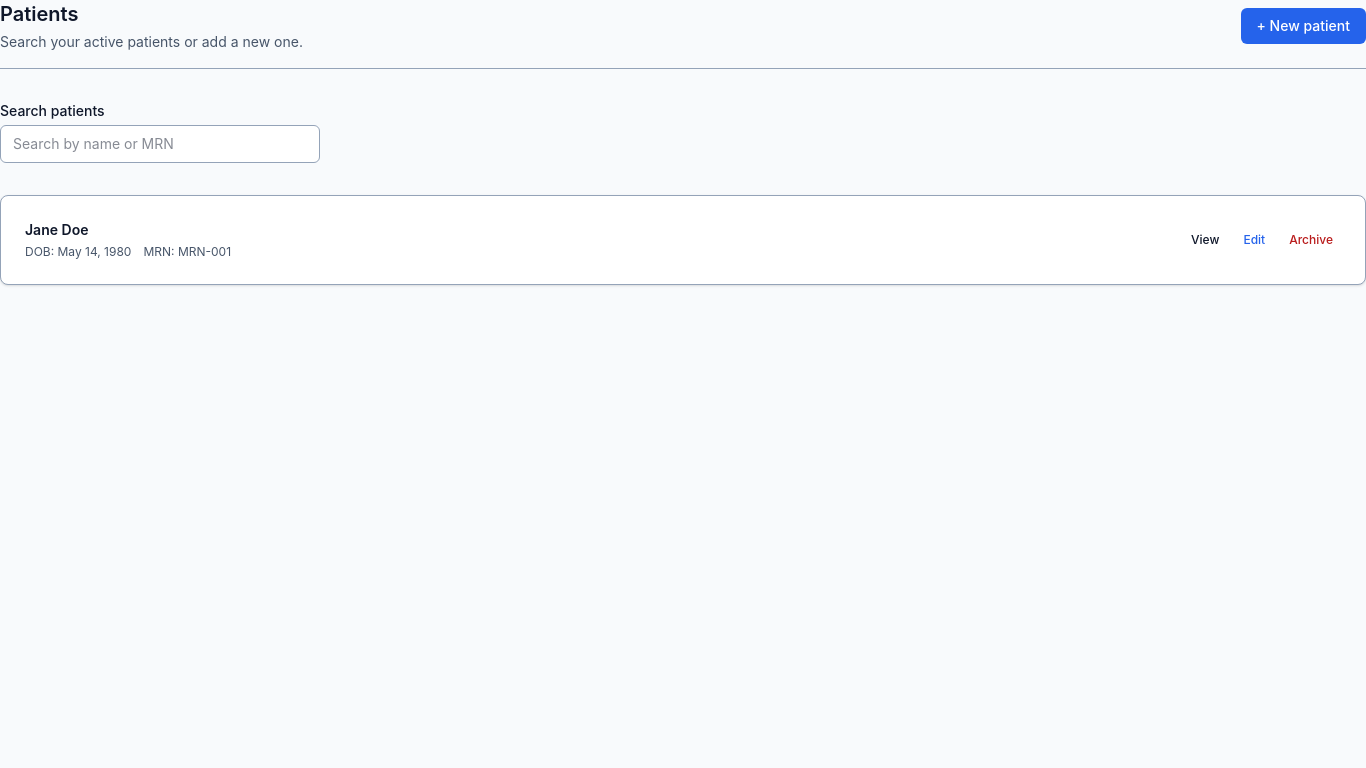
PatientsPage › shows an error inside the dialog and keeps the patient when archiving fails
Expected: the link "Jane Doe" is shown, [25,221,88,238]
Click the button with aria-label "Archive Jane Doe" at (1311,240), box [1281,228,1341,252]
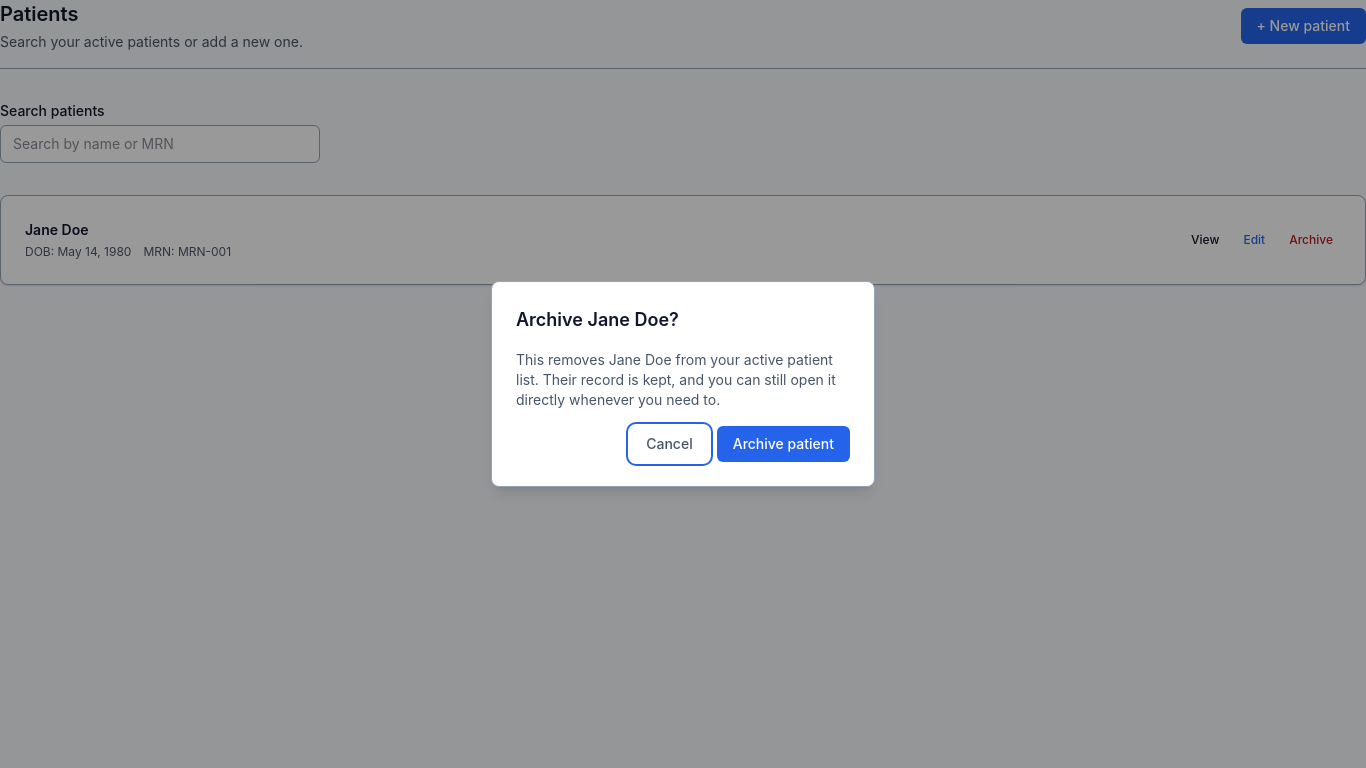
Click the button "Archive patient" at (783,444), box [717,426,850,462]
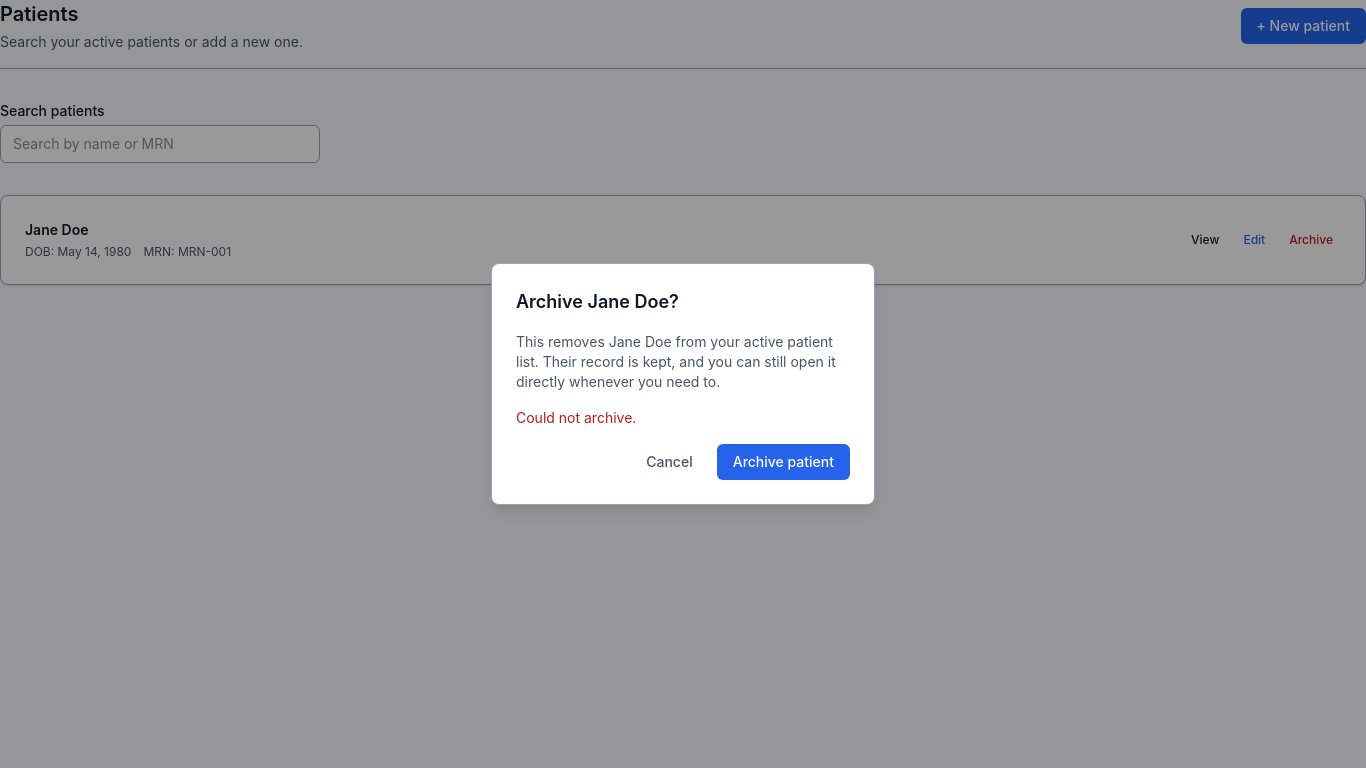
Expected: the link "Jane Doe" is shown, [25,221,88,238]
Now the message reads "Could not archive.", box [516,409,636,426]
